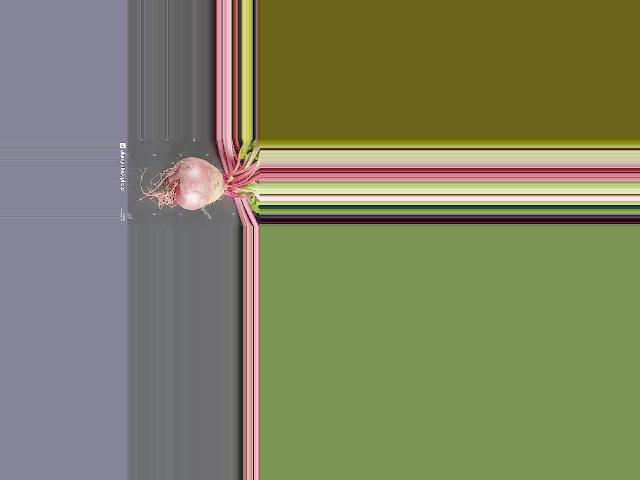beet: (134, 139, 259, 210)
